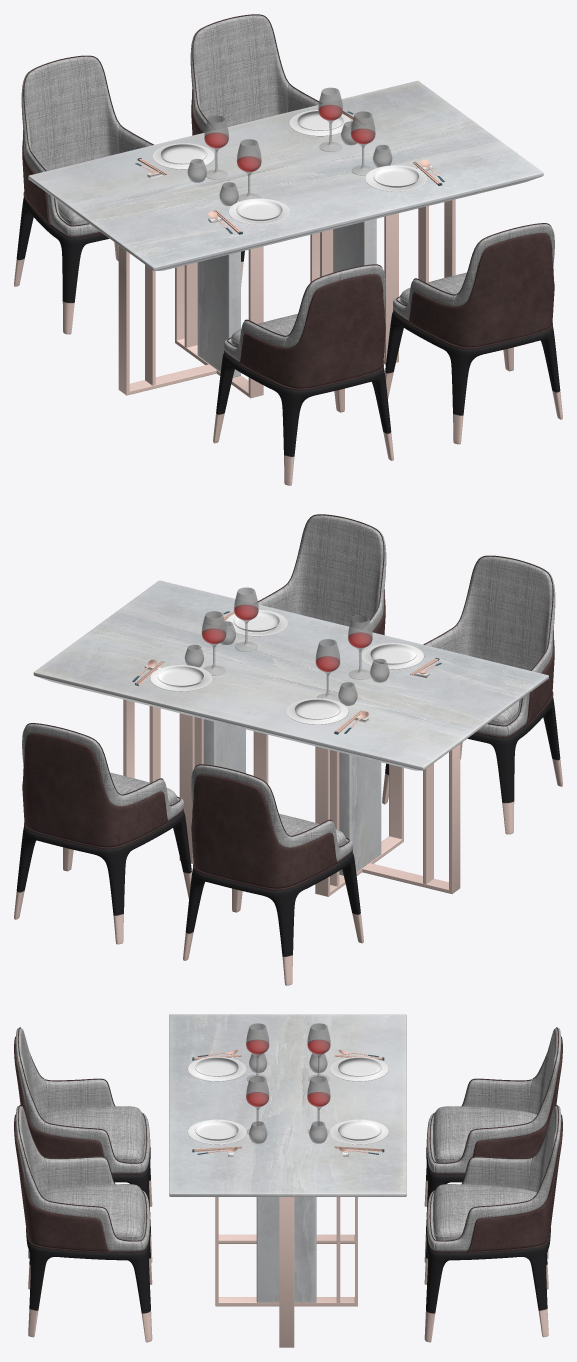
Rendered from dining-table.glb.
3 renders of one model, top to bottom at view 1: azimuth 30°, elevation 25°; view 2: azimuth 150°, elevation 25°; view 3: azimuth 270°, elevation 25°, orthographic. The views are drawn at different scales.
Parts seen in each view (by area): view 1: 对象007.001, 对象032.001, 对象033.001, 对象030.001, Box001.001, 对象031.001, Box003.001, 对象045.001, 对象046.001, 对象048.001, Box009.001, Box006.001 (+6 smaller); view 2: 对象007.001, 对象030.001, 对象031.001, 对象032.001, Box001.001, 对象033.001, Box003.001, 对象048.001, 对象047.001, 对象045.001, Box007.001, Box008.001 (+6 smaller); view 3: 对象007.001, 对象031.001, 对象033.001, 对象030.001, 对象032.001, Box003.001, 对象046.001, 对象047.001, Box006.001, Box008.001, Box007.001, Box009.001 (+7 smaller).
Boxes of the visible parts, x1,y1,x2,y2 form: 对象007.001: (28,80,543,270); 对象032.001: (224,264,385,390); 对象033.001: (393,223,554,349); 对象030.001: (21,55,153,238); Box001.001: (118,245,263,398); 对象031.001: (190,14,319,135); Box003.001: (310,199,455,364); 对象045.001: (213,352,393,485); 对象046.001: (385,311,562,444); 对象048.001: (14,197,118,334); Box009.001: (208,198,290,224); Box006.001: (365,165,432,191); 对象007.001: (33,580,548,770); 对象030.001: (191,764,352,890); 对象031.001: (22,723,183,849); 对象032.001: (423,555,555,738); Box001.001: (315,744,460,896); 对象033.001: (258,514,386,634); Box003.001: (123,699,268,863); 对象048.001: (183,852,363,985); 对象047.001: (14,811,191,944); 对象045.001: (382,697,562,834); Box007.001: (286,698,368,724); Box008.001: (144,664,211,691); 对象007.001: (169,1014,406,1196); 对象031.001: (426,1105,562,1253); 对象033.001: (14,1105,150,1253); 对象030.001: (426,1027,562,1174); 对象032.001: (14,1027,150,1174); Box003.001: (215,1197,357,1347); 对象046.001: (26,1225,152,1342); 对象047.001: (424,1225,550,1342); Box006.001: (188,1119,246,1156); Box008.001: (330,1119,388,1156); Box007.001: (330,1054,388,1081); Box009.001: (187,1054,246,1081).
Bounding box in the file's own units: 1.7 × 0.9747 × 2.19.
5 materials, 5 textured.
